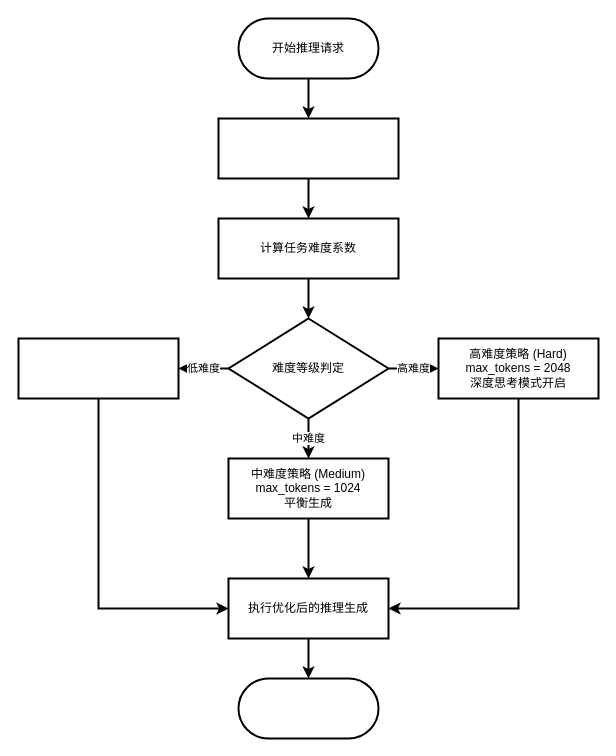
Image size: 616x756. Some labels were removed from this diagram. The shapes that lost their labels are listed below. From the top down, each one's centre as x and y in pixels, then its label:
At (x=308, y=148): "提取输入特征 (文本逻辑词、音频复杂度)".
At (x=98, y=368): "低难度策略 (Easy) max_tokens = 512 快速生成".
At (x=308, y=708): "结束".
